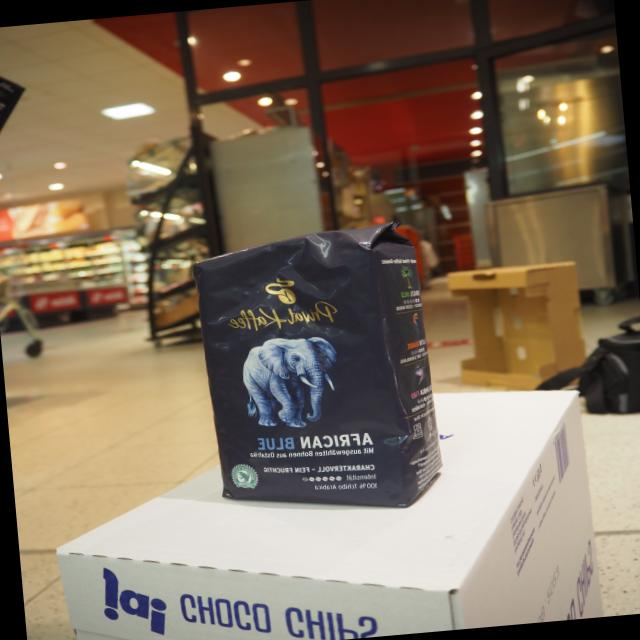AB Bohne: (189, 238, 412, 510)
